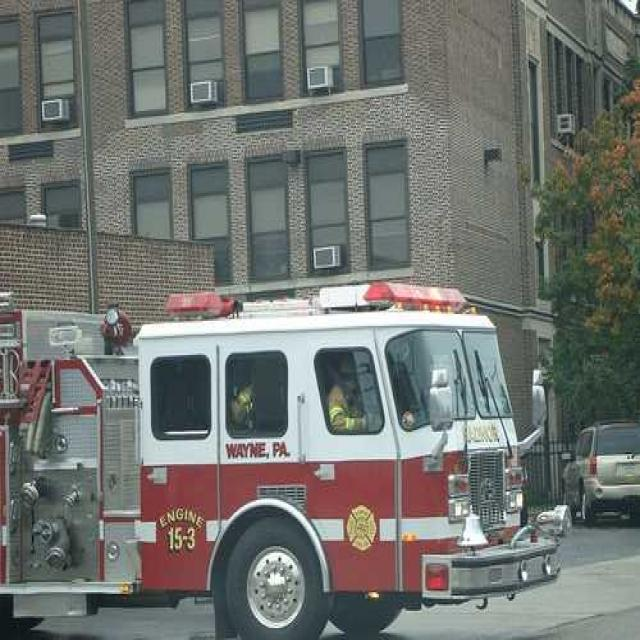ambulance: (8, 270, 516, 619)
